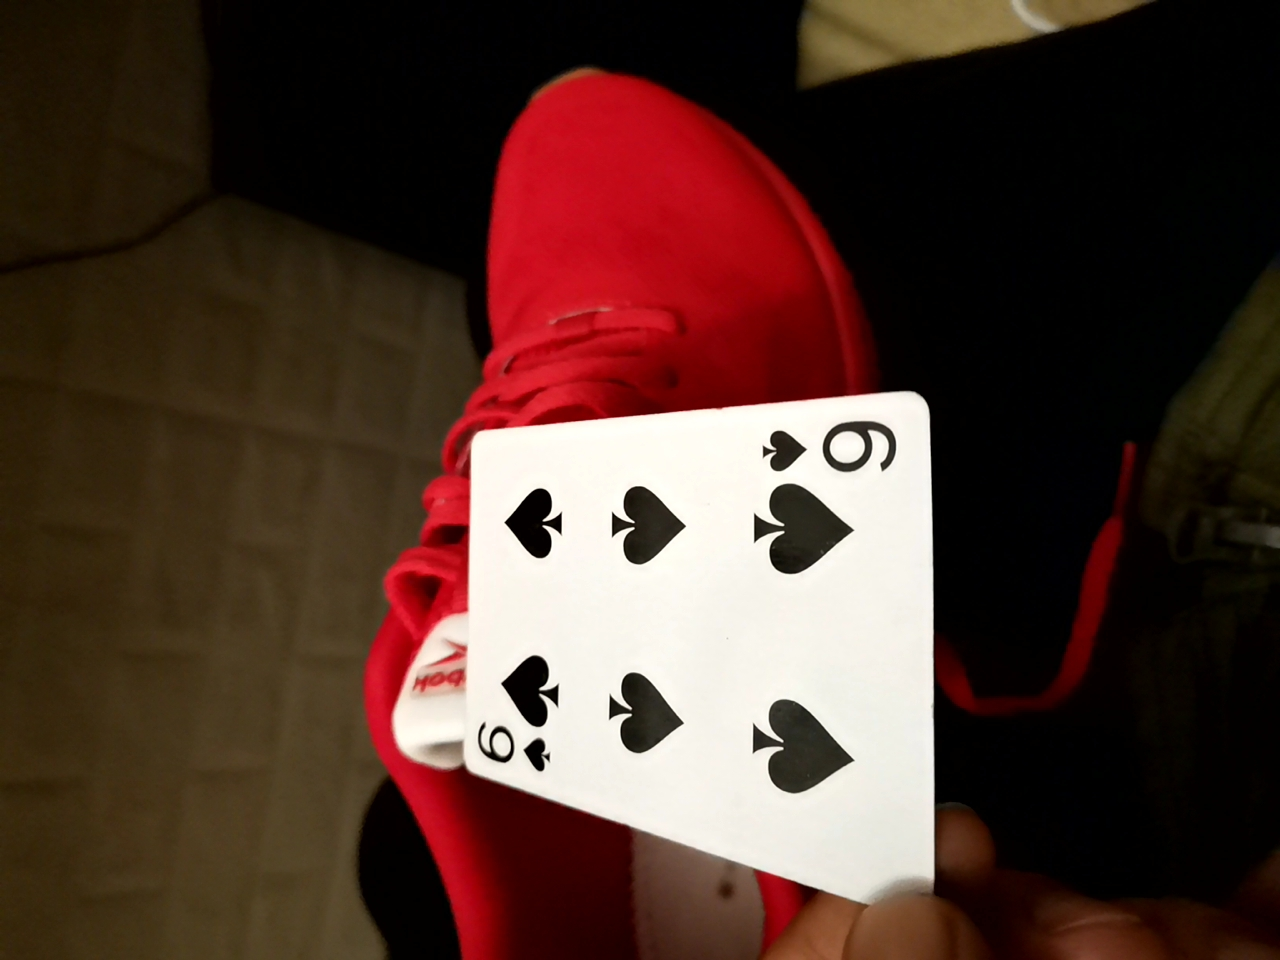ht 6: (424, 399, 943, 894)
